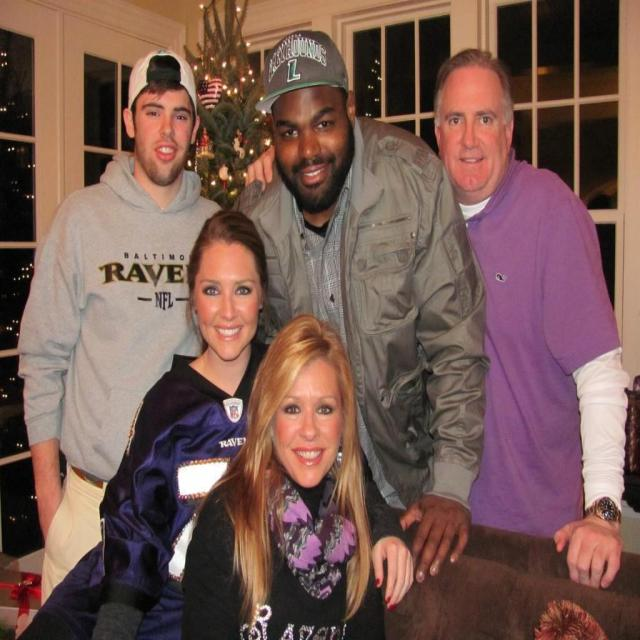Face: (260, 335, 365, 487), (430, 49, 522, 217), (187, 219, 277, 361), (258, 81, 357, 204), (133, 71, 199, 192)
